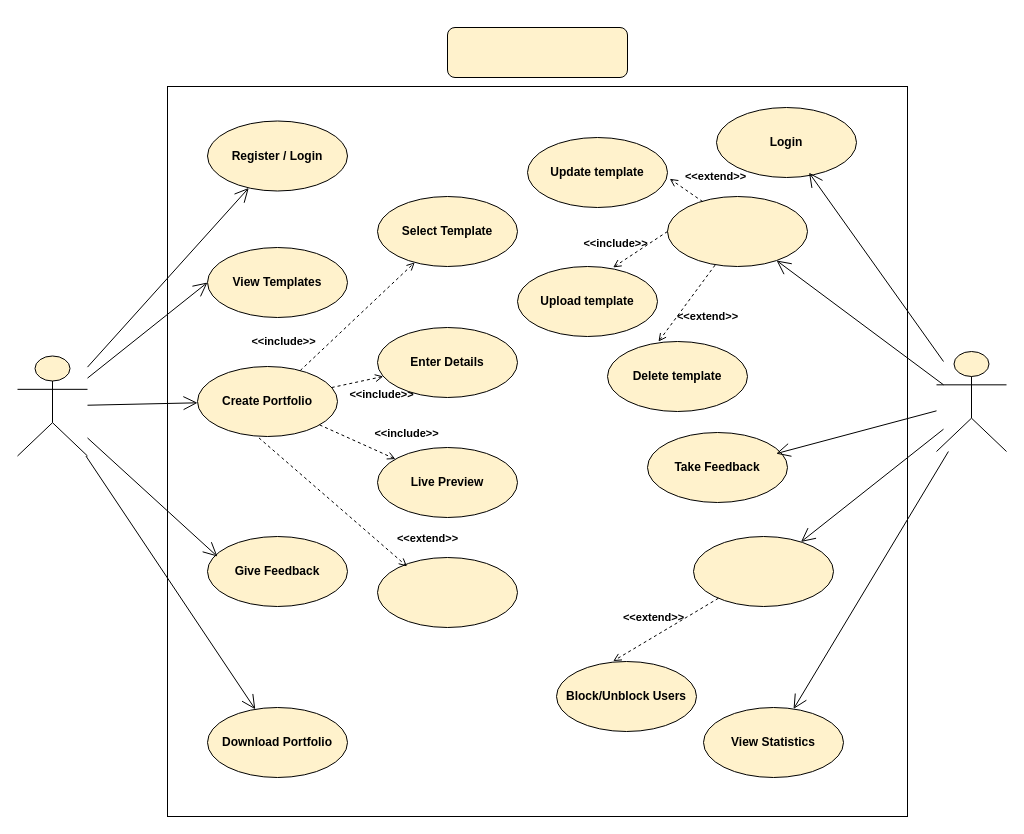
Image size: 1024x834. Some labels were removed from this diagram. The centre of each missing label's shape, as x and y in pixels:
"Admin" goes at point 971,401.
"Generate About Me (AI)" goes at point 447,592.
"Manage Templates" goes at point 737,231.
"Manage Users" goes at point 763,571.
"Portify UseCase" goes at point 537,52.
"User" goes at point 52,405.
